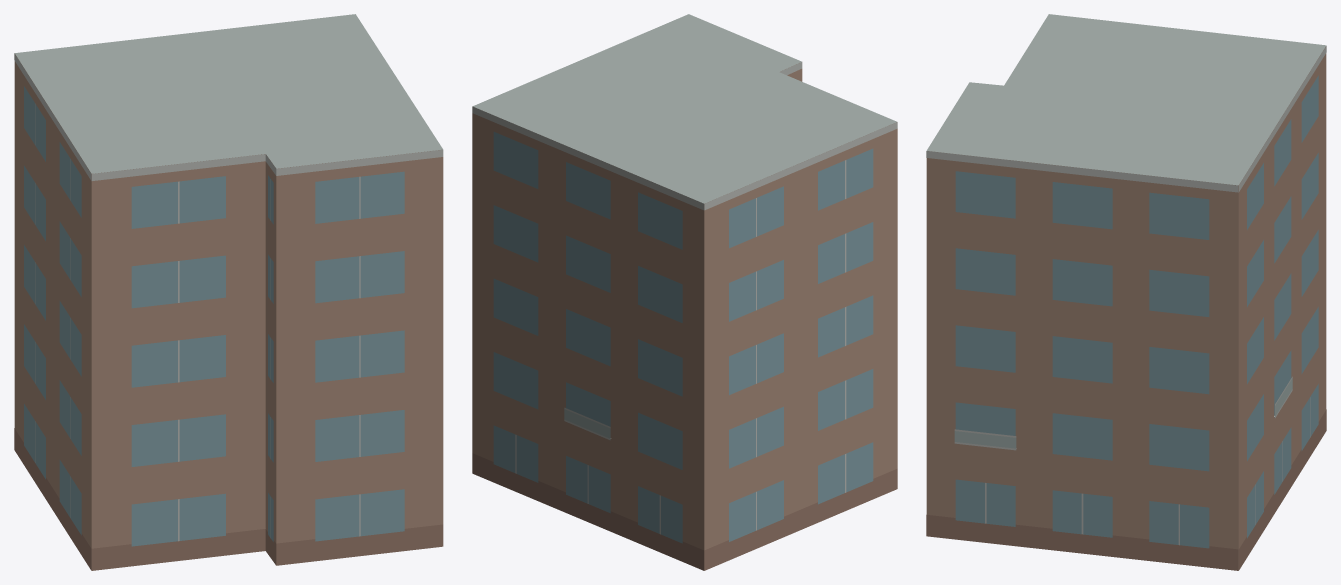
Rendered from survey-upis-33011129.glb.
3 views of the same model, side by side, from view 1: azimuth 30°, elevation 25°; view 2: azimuth 150°, elevation 25°; view 3: azimuth 270°, elevation 25° (orthographic). The views are drawn at different scales.
Visible parts, largest first — view 1: survey-upis-33011129.tmp; view 2: survey-upis-33011129.tmp; view 3: survey-upis-33011129.tmp.
Part boxes in pixels (x1,y1,x2,y2): survey-upis-33011129.tmp: [14, 14, 443, 570]; survey-upis-33011129.tmp: [472, 14, 897, 570]; survey-upis-33011129.tmp: [926, 14, 1326, 570].
Size of the model in its own units: 12.6 by 13.2 by 12.43.
